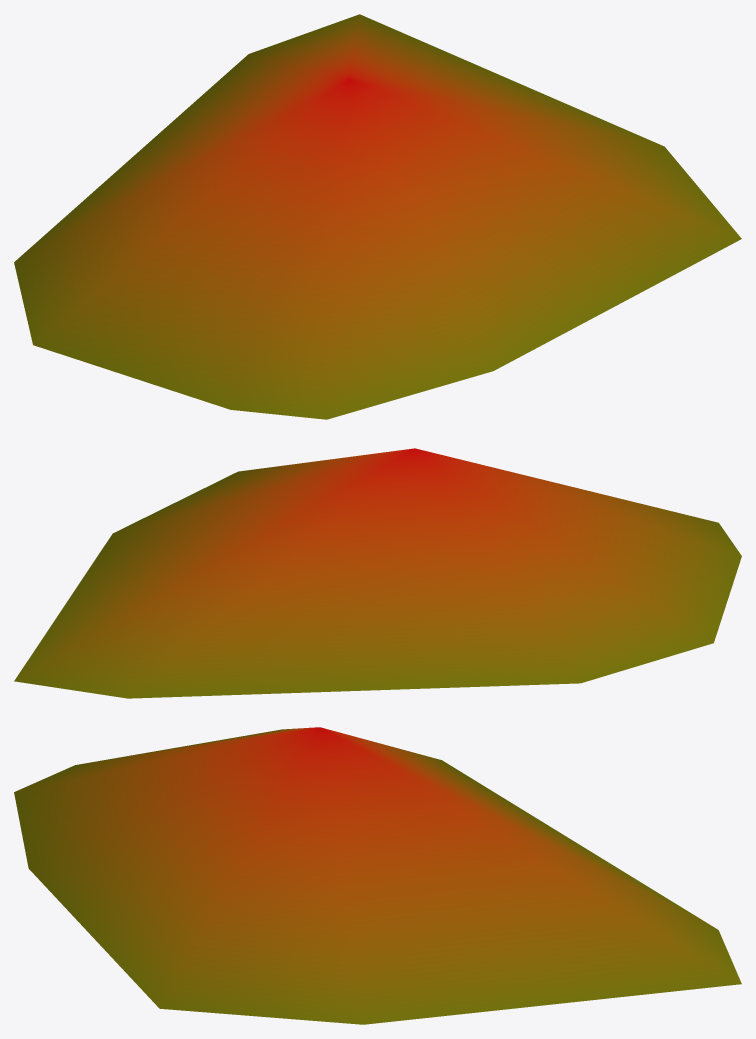
The model's file is Yellow Archangel_LOD4_Var11_wcwmcfvia.fbx.
The picture shows the model from 3 angles, top to bottom: view 1: azimuth 30°, elevation 25°; view 2: azimuth 150°, elevation 25°; view 3: azimuth 270°, elevation 25°; orthographic projection. The views are drawn at different scales.
Visible parts, largest first — view 1: _bzqg_Var11_LOD4; view 2: _bzqg_Var11_LOD4; view 3: _bzqg_Var11_LOD4.
Boxes of the visible parts, x1,y1,x2,y2 form: _bzqg_Var11_LOD4: (14, 14, 741, 419); _bzqg_Var11_LOD4: (14, 448, 741, 698); _bzqg_Var11_LOD4: (14, 727, 741, 1024).
Size of the model in its own units: 9.37 by 2.21 by 9.76.
